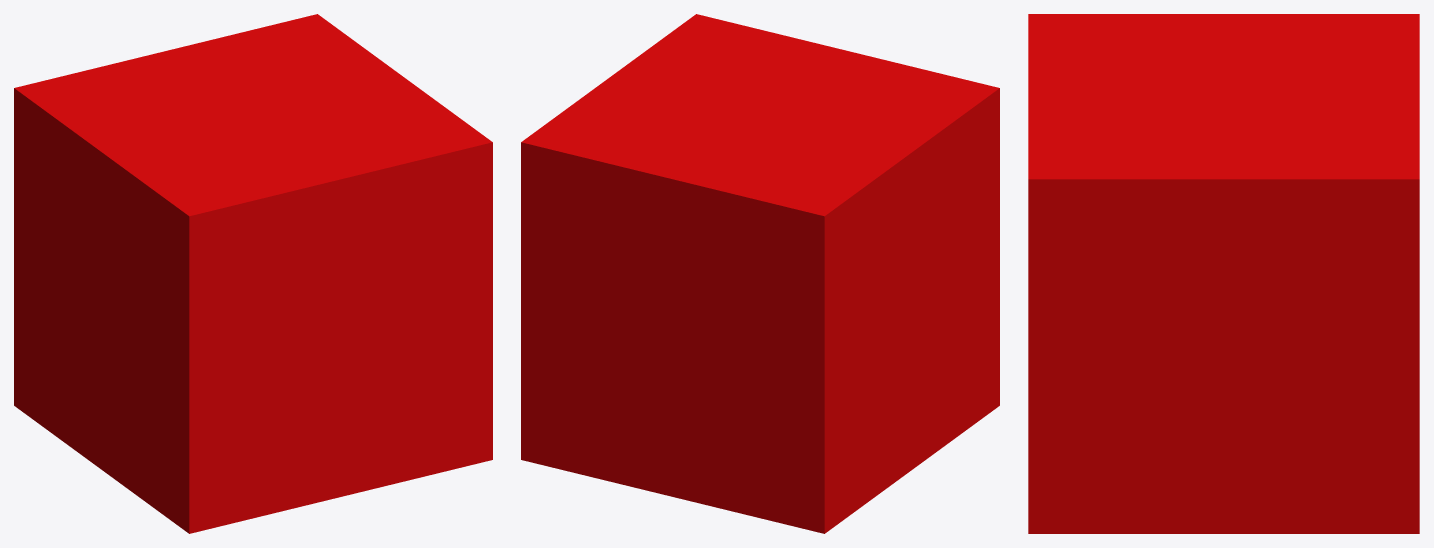
File: BaseCubeRoom.gltf
3 renders of one model, left to right at view 1: azimuth 30°, elevation 25°; view 2: azimuth 150°, elevation 25°; view 3: azimuth 270°, elevation 25°, orthographic. The views are drawn at different scales.
Visible parts, largest first — view 1: Left Wall, Ceiling, Back Wall, Cube.001, Back Left Pillar, Front Left Pillar, Back Right Pillar; view 2: Right Wall, Ceiling, Back Wall, Cube.001, Back Right Pillar, Front Right Pillar, Back Left Pillar; view 3: Front Wall, Ceiling, Cube.001, Front Left Pillar, Front Right Pillar.
Boxes of the visible parts, <box> form: Left Wall: <box>204,162,477,514</box>; Ceiling: <box>14,14,492,231</box>; Back Wall: <box>23,110,180,511</box>; Cube.001: <box>14,390,492,533</box>; Back Left Pillar: <box>180,226,204,517</box>; Front Left Pillar: <box>477,158,492,447</box>; Back Right Pillar: <box>14,104,22,395</box>; Right Wall: <box>536,162,809,514</box>; Ceiling: <box>521,14,999,231</box>; Back Wall: <box>833,110,990,511</box>; Cube.001: <box>521,390,999,533</box>; Back Right Pillar: <box>809,226,833,517</box>; Front Right Pillar: <box>521,158,536,447</box>; Back Left Pillar: <box>991,104,999,395</box>; Front Wall: <box>1048,197,1399,516</box>; Ceiling: <box>1028,14,1419,196</box>; Cube.001: <box>1028,516,1419,533</box>; Front Left Pillar: <box>1028,197,1047,516</box>; Front Right Pillar: <box>1400,197,1419,516</box>.
Size of the model in its own units: 20 by 20 by 20.
